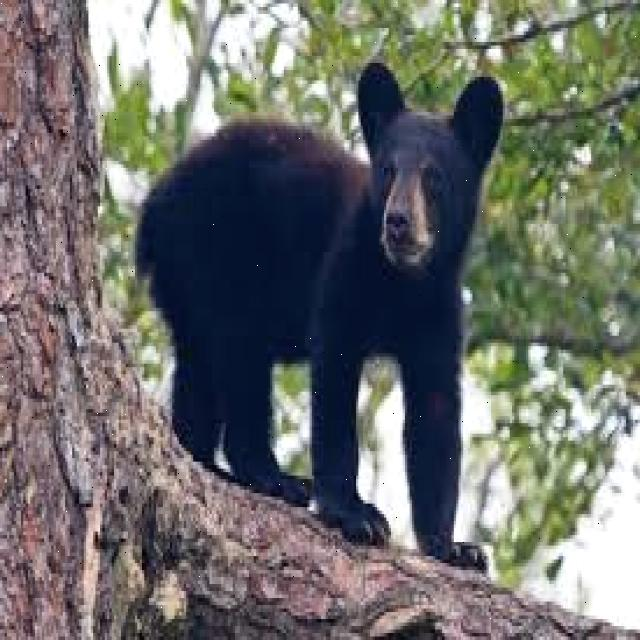bear: (163, 44, 502, 466)
